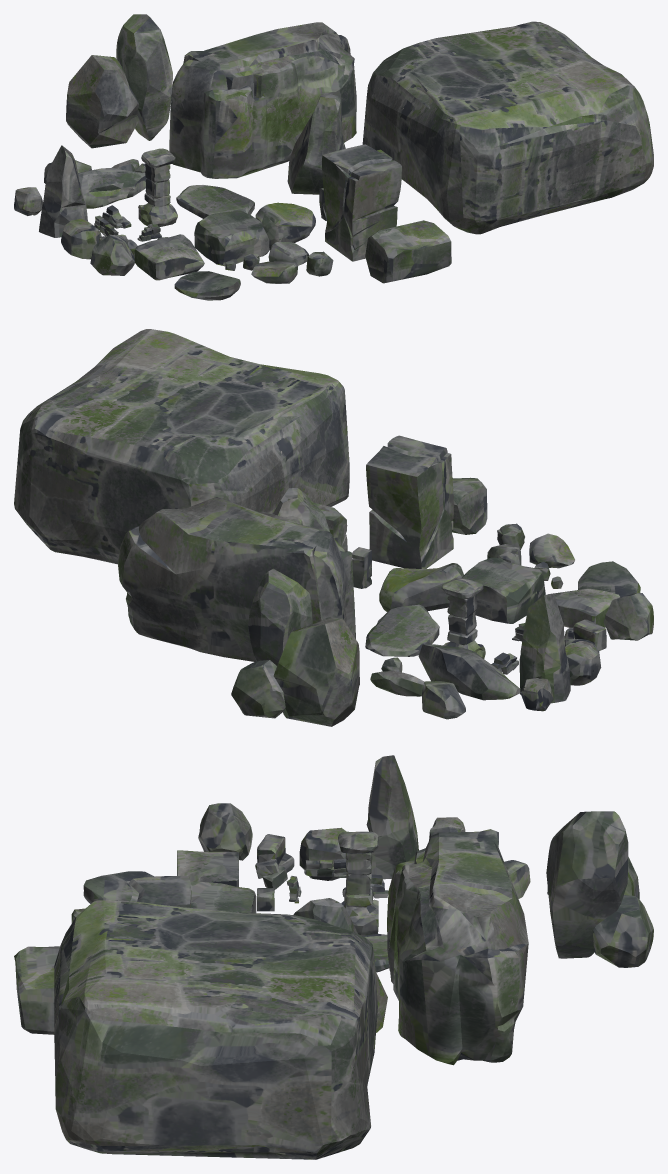
The model's file is rocks for texturing.fbx.
3 views of the same model, one above another, from view 1: azimuth 30°, elevation 25°; view 2: azimuth 150°, elevation 25°; view 3: azimuth 270°, elevation 25° (orthographic). The views are drawn at different scales.
Parts seen in each view (by area): view 1: rock.039, rock.051, rock.057, rock.047, rock, rock.021, rock.044, rock.038, rock.045, rock.041, rock.040, rock.036 (+9 smaller); view 2: rock.039, rock.051, rock.057, rock.047, rock, rock.045, rock.038, rock.036, rock.054, rock.052, rock.046, rock.040 (+13 smaller); view 3: rock.039, rock.051, rock, rock.045, rock.021, rock.046, rock.040, rock.001, rock.057, rock.041, rock.038, rock.044 (+6 smaller).
Part boxes in pixels (bbox=[...]): rock.039: bbox=[362, 21, 653, 234]; rock.051: bbox=[169, 22, 356, 178]; rock.057: bbox=[322, 144, 401, 261]; rock.047: bbox=[66, 55, 139, 148]; rock: bbox=[116, 14, 172, 140]; rock.021: bbox=[365, 220, 451, 283]; rock.044: bbox=[287, 93, 345, 194]; rock.038: bbox=[194, 210, 269, 266]; rock.045: bbox=[39, 145, 87, 237]; rock.041: bbox=[134, 234, 204, 280]; rock.040: bbox=[138, 148, 177, 227]; rock.036: bbox=[78, 167, 146, 208]; rock.039: bbox=[14, 329, 349, 564]; rock.051: bbox=[117, 497, 355, 661]; rock.057: bbox=[366, 435, 453, 569]; rock.047: bbox=[273, 618, 359, 726]; rock: bbox=[248, 568, 312, 665]; rock.045: bbox=[519, 594, 570, 703]; rock.038: bbox=[461, 557, 545, 623]; rock.036: bbox=[418, 644, 520, 700]; rock.054: bbox=[365, 604, 439, 656]; rock.052: bbox=[379, 563, 463, 611]; rock.046: bbox=[231, 660, 285, 718]; rock.040: bbox=[441, 577, 485, 658]; rock.039: bbox=[54, 900, 377, 1159]; rock.051: bbox=[387, 829, 528, 1065]; rock: bbox=[546, 811, 628, 958]; rock.045: bbox=[366, 755, 418, 879]; rock.021: bbox=[14, 946, 59, 1034]; rock.046: bbox=[592, 895, 653, 967]; rock.040: bbox=[338, 831, 378, 935]; rock.001: bbox=[198, 803, 252, 860]; rock.057: bbox=[103, 876, 191, 907]; rock.041: bbox=[177, 850, 238, 886]; rock.038: bbox=[190, 881, 256, 913]; rock.044: bbox=[293, 898, 387, 1032].
Size of what is drawn, in the model's own units: 10542 by 2552 by 8521.
1 material, 1 textured.
